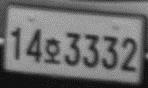1: (10, 26, 21, 61)
2: (120, 37, 137, 71)
3: (100, 34, 118, 69), (63, 31, 80, 66), (82, 33, 99, 67)
4: (24, 28, 43, 63)
호: (43, 35, 61, 64)
